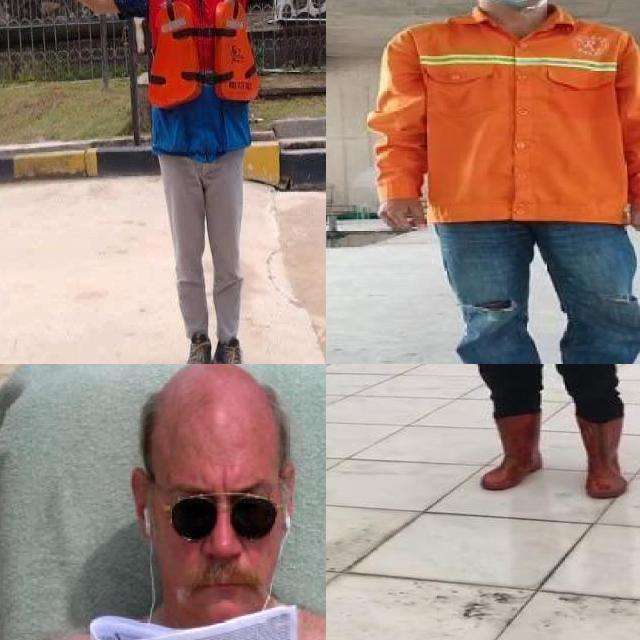boots: (479, 412, 544, 490), (574, 415, 634, 498), (209, 340, 255, 364), (182, 328, 211, 364)
face_nomask: (149, 463, 286, 619)
glasses: (144, 452, 288, 538)
hand_noglove: (373, 195, 430, 239), (617, 194, 640, 237)
person: (0, 0, 326, 364), (361, 0, 640, 364), (0, 364, 326, 640), (404, 364, 640, 502)
vest: (144, 0, 263, 155)
